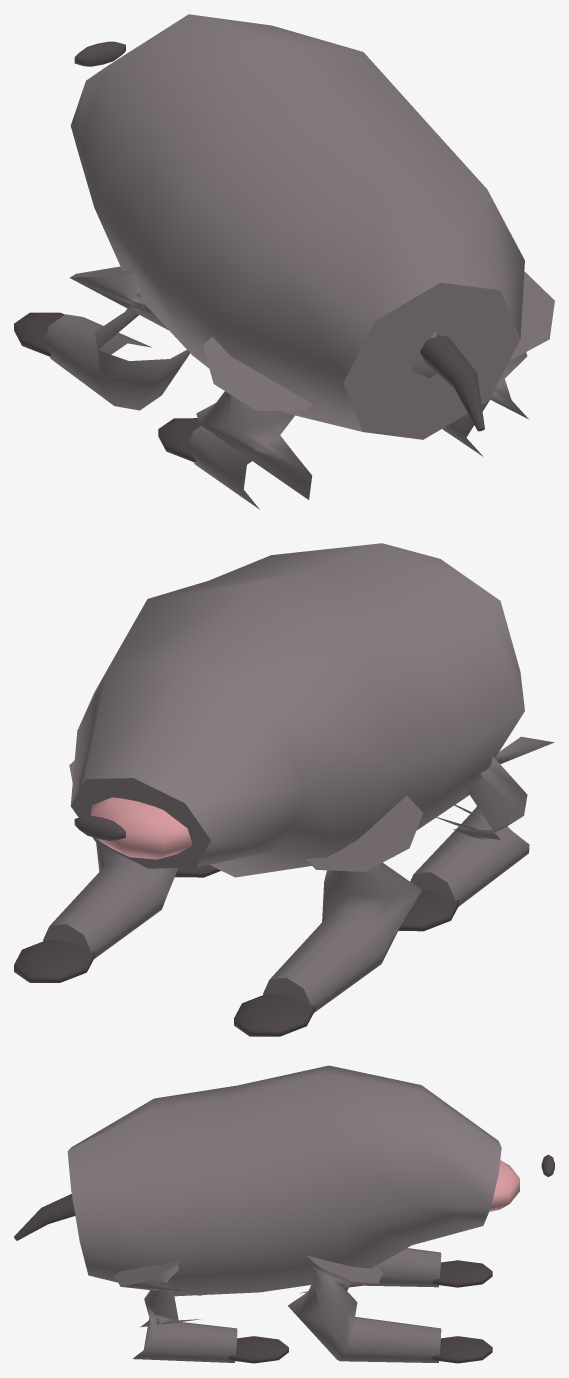
File: hippo_mobile.glb
3 views of the same model, one above another, from view 1: azimuth 30°, elevation 25°; view 2: azimuth 150°, elevation 25°; view 3: azimuth 270°, elevation 25° (orthographic). The views are drawn at different scales.
Visible parts, largest first — view 1: HippoOrganicBody, Leg_LH, Leg_LF, Leg_RH, Tail, Paw_LF, Paw_LH, Nose; view 2: HippoOrganicBody, Leg_LF, Leg_LH, Leg_RF, WideMuzzle, Paw_LF, Paw_RF, Paw_LH, Nose; view 3: HippoOrganicBody, Leg_RF, Leg_RH, Leg_LF, Paw_LF, Paw_RF, Paw_RH, Tail, WideMuzzle.
Boxes of the visible parts, x1,y1,x2,y2 form: HippoOrganicBody: (70,14,524,439); Leg_LH: (187,337,312,509); Leg_LF: (43,266,190,410); Leg_RH: (442,271,554,456); Tail: (420,335,484,431); Paw_LF: (14,312,64,356); Paw_LH: (158,418,200,461); Nose: (74,41,125,66); HippoOrganicBody: (70,543,524,877); Leg_LF: (263,795,422,1012); Leg_LH: (410,736,554,906); Leg_RF: (43,760,178,958); WideMuzzle: (90,797,192,859); Paw_LF: (234,993,314,1036); Paw_RF: (14,940,94,982); Paw_LH: (398,888,458,931); Nose: (74,815,125,840); HippoOrganicBody: (67,1065,501,1296); Leg_RF: (288,1255,441,1362); Leg_RH: (115,1257,237,1362); Leg_LF: (365,1248,441,1287); Paw_LF: (432,1260,492,1287); Paw_RF: (432,1336,492,1363); Paw_RH: (228,1336,288,1363); Tail: (14,1194,75,1240); WideMuzzle: (489,1160,519,1211).
Bounding box in the file's own units: 2.41 × 2.39 × 4.69.
